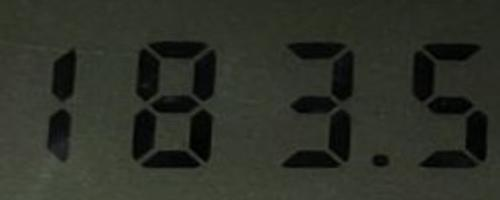.: (369, 150, 391, 170)
